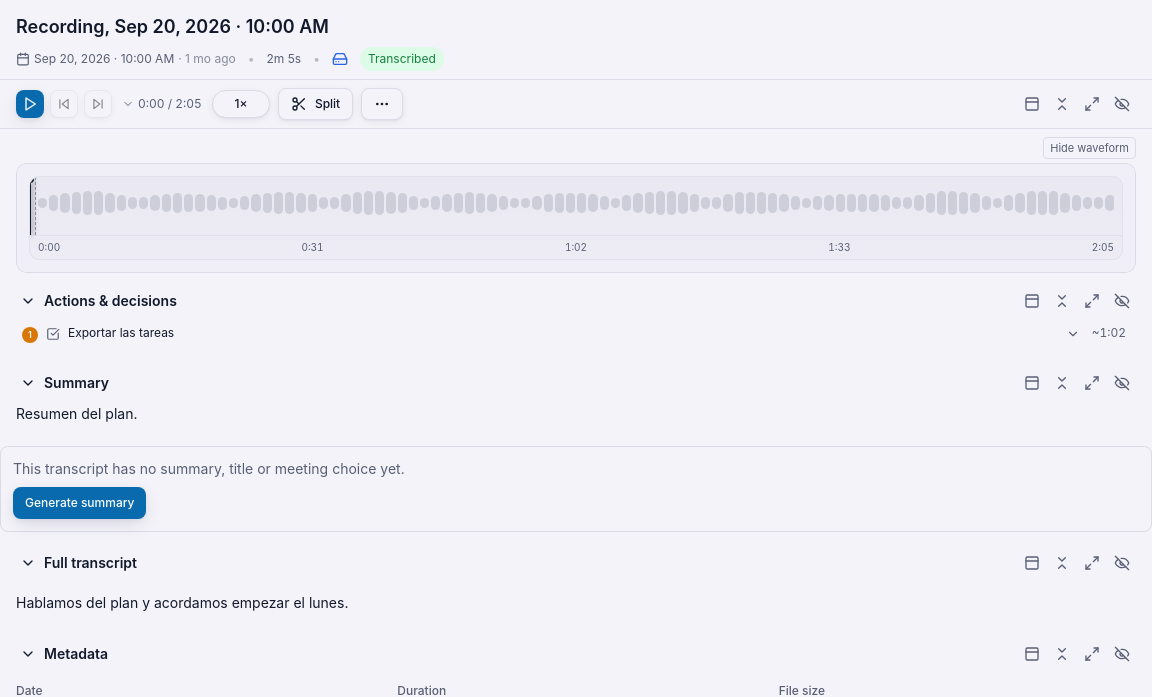
reader compaction — section-mode icons next to Layout › minimizes and expands through the store
Click the button named "Minimize Player".
click(1062, 104)  # box [1048,90,1076,118]
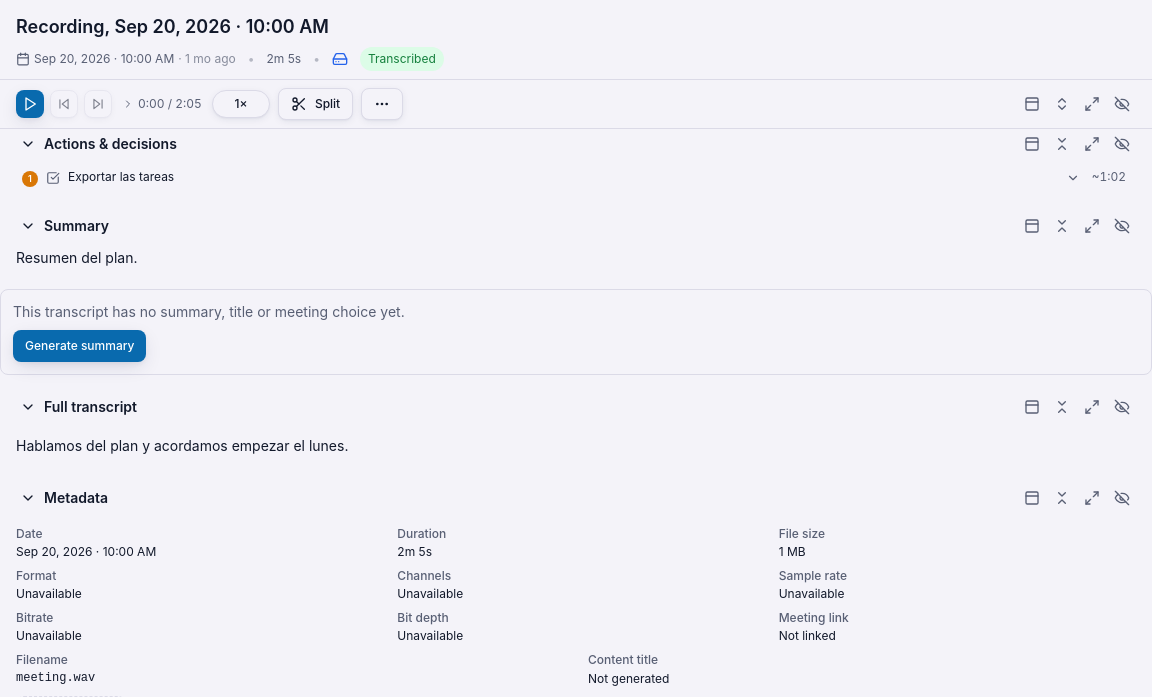
Check: the element with test id "reader-dock-player" is shown, box [16,90,270,118]
Click the button named "Expand Player".
click(1062, 104)  # box [1048,90,1076,118]
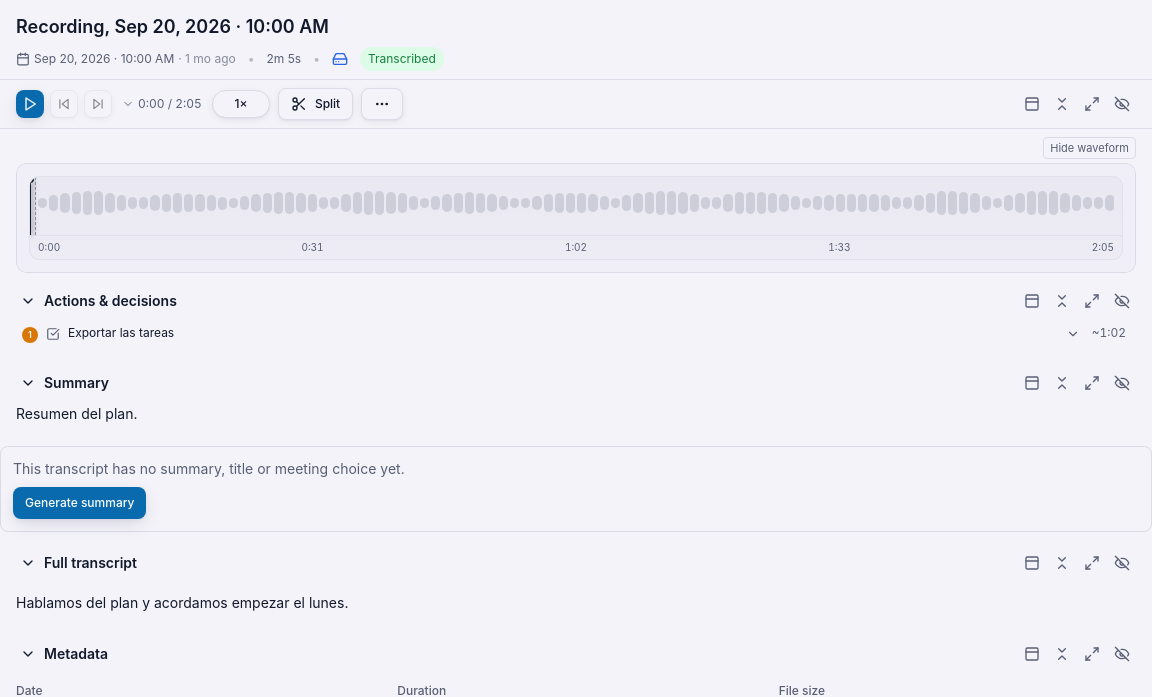
Check: the element with test id "waveform-player-full" is shown, box [16,163,1136,273]
